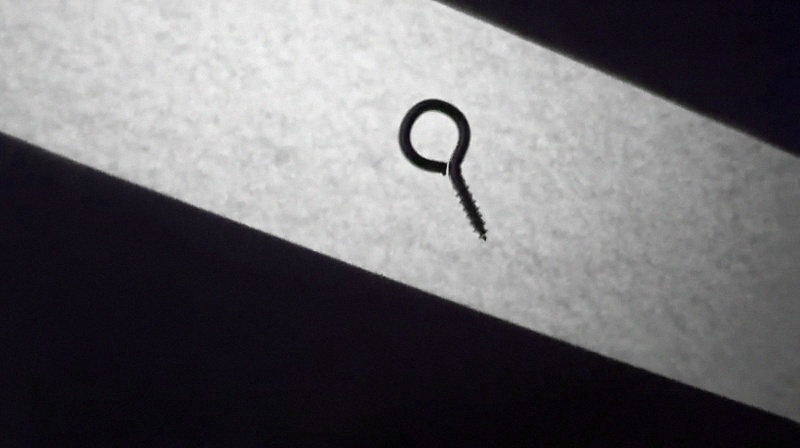O001: (393, 95, 492, 244)
